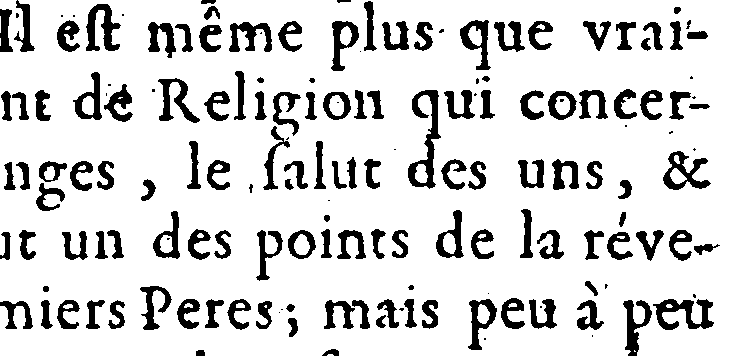e: (106, 88, 139, 123), (69, 157, 100, 194), (224, 295, 253, 330), (278, 18, 306, 54), (55, 296, 82, 333), (529, 18, 557, 52), (187, 227, 214, 261), (205, 88, 232, 122), (204, 160, 234, 188), (440, 158, 468, 188), (641, 85, 663, 123), (176, 296, 201, 329), (469, 229, 495, 259), (503, 295, 524, 330), (670, 229, 693, 260)
o: (285, 228, 316, 259), (322, 88, 351, 121), (547, 88, 576, 120)
st: (80, 4, 125, 54)
